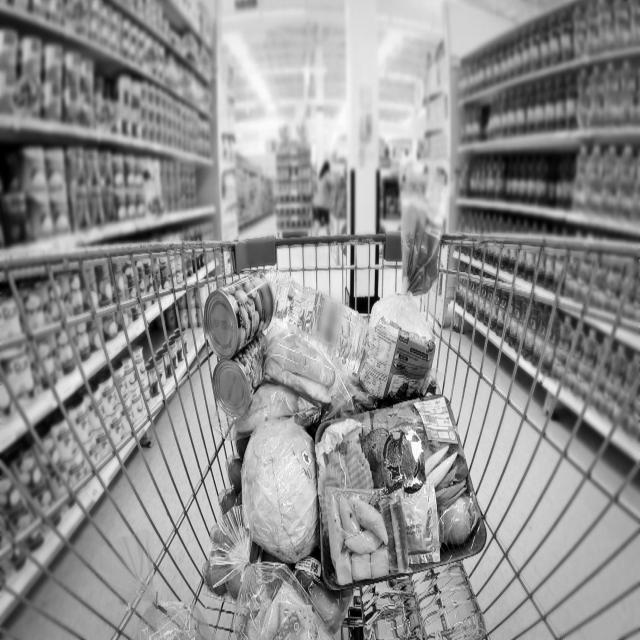banh mi: (356, 201, 447, 410), (237, 571, 330, 640)
bap cai: (241, 414, 319, 564)
dau: (260, 269, 375, 375)
tao: (294, 560, 356, 626)
trung: (209, 428, 262, 597)
